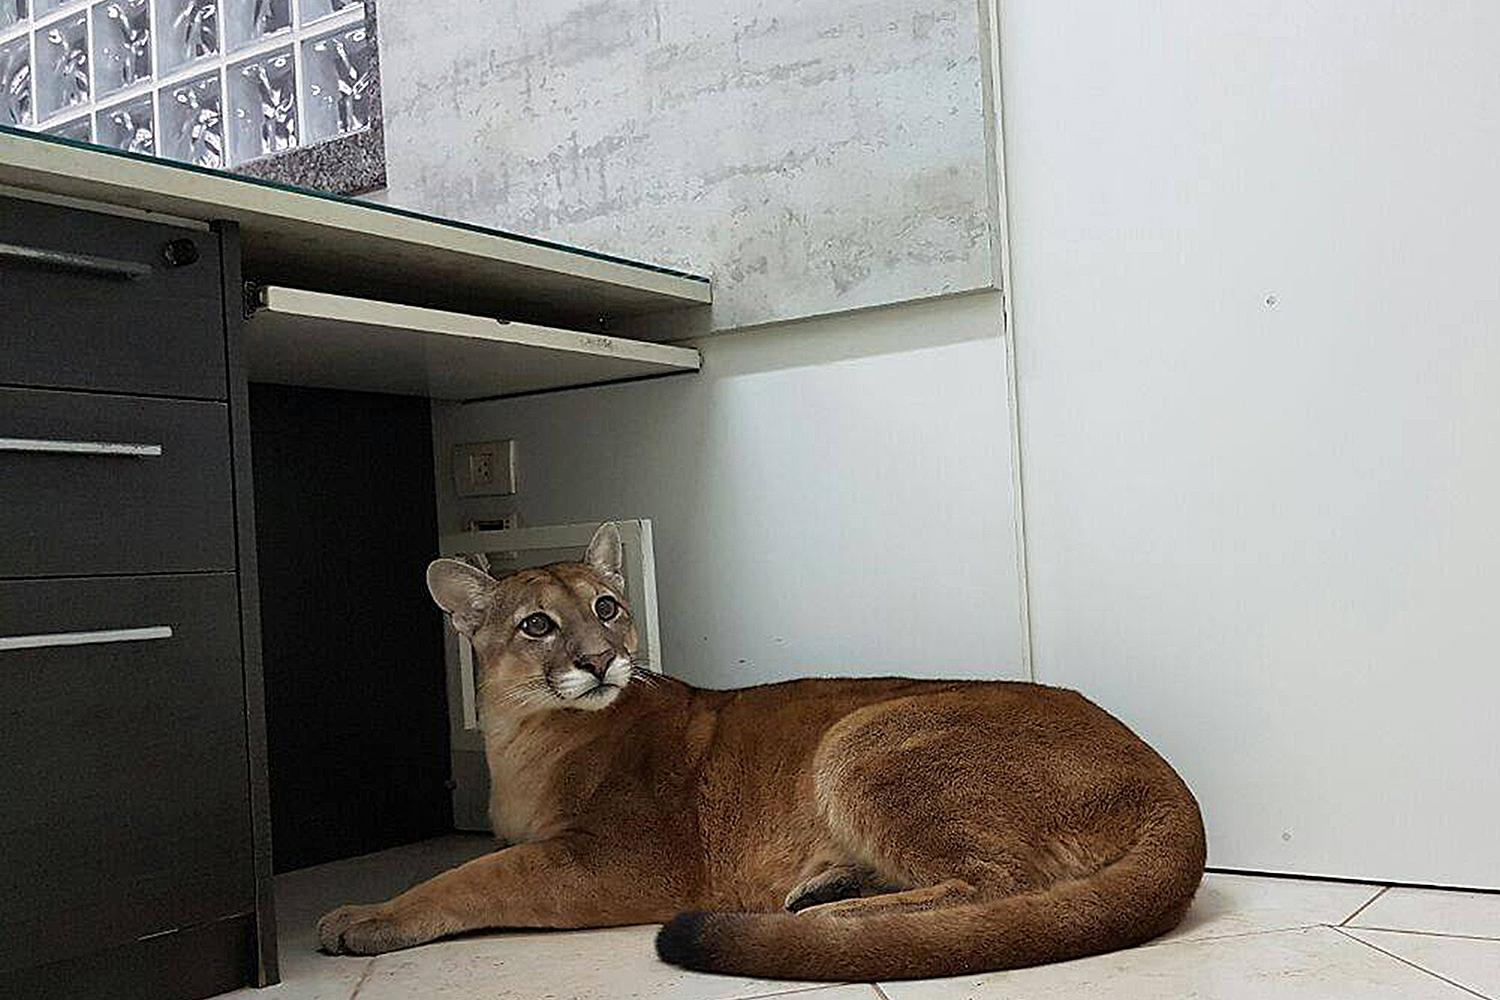OncaParda: (315, 519, 1217, 985)
